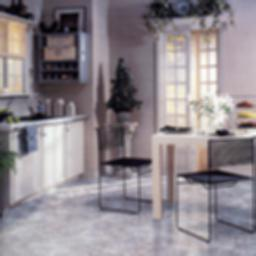Electrodomestico: (12, 101, 59, 125)
Matera: (106, 56, 144, 123)
